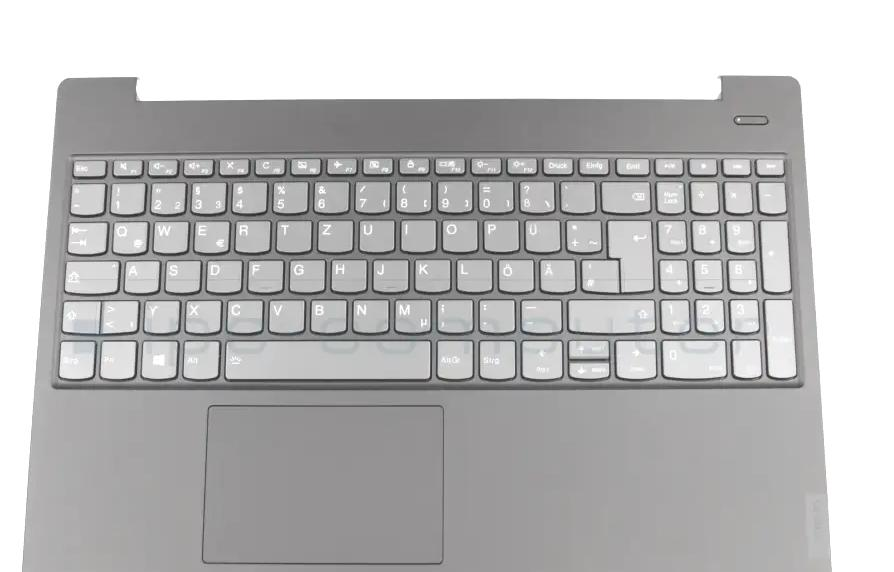0: (475, 178, 513, 212)
1: (108, 180, 144, 214)
2: (148, 180, 185, 213)
3: (188, 179, 226, 213)
4: (230, 179, 266, 213)
5: (270, 179, 307, 212)
6: (311, 179, 348, 212)
7: (353, 179, 389, 212)
8: (393, 178, 430, 212)
9: (434, 178, 471, 211)
a: (122, 257, 158, 293)
accent: (558, 178, 595, 212)
ae: (537, 256, 575, 292)
alt-left: (180, 337, 218, 379)
altgr-right: (434, 337, 472, 379)
b: (307, 296, 346, 333)
c: (224, 297, 262, 333)
caret: (68, 181, 104, 214)
comma: (434, 296, 472, 332)
d: (204, 257, 241, 293)
del: (599, 178, 650, 212)
e: (191, 217, 228, 252)
enter: (606, 216, 653, 292)
f: (245, 257, 282, 292)
g: (286, 257, 324, 292)
h: (328, 256, 366, 292)
hash: (578, 256, 617, 292)
i: (398, 217, 435, 251)
j: (370, 256, 407, 292)
k: (412, 256, 450, 292)
keyboard: (46, 146, 808, 392)
l: (454, 256, 491, 292)
less: (99, 297, 138, 332)
m: (391, 296, 430, 332)
minus: (517, 297, 561, 332)
n: (350, 297, 388, 332)
o: (439, 216, 477, 251)
oe: (495, 256, 533, 292)
p: (481, 217, 518, 251)
plus: (563, 217, 601, 252)
point: (476, 296, 514, 332)
q: (110, 218, 146, 253)
r: (232, 218, 269, 252)
s: (163, 257, 199, 293)
shift-left: (59, 297, 97, 332)
shift-lock: (62, 257, 119, 293)
shift-right: (566, 296, 655, 332)
space: (221, 337, 432, 380)
ss: (516, 178, 553, 212)
strg-left: (58, 339, 96, 381)
strg-right: (478, 338, 516, 380)
t: (274, 217, 311, 252)
tab: (65, 219, 106, 253)
u: (356, 217, 394, 252)
ue: (522, 217, 559, 252)
v: (266, 297, 304, 332)
w: (151, 218, 187, 252)
x: (182, 297, 220, 333)
y: (142, 297, 179, 332)
z: (315, 217, 352, 252)
